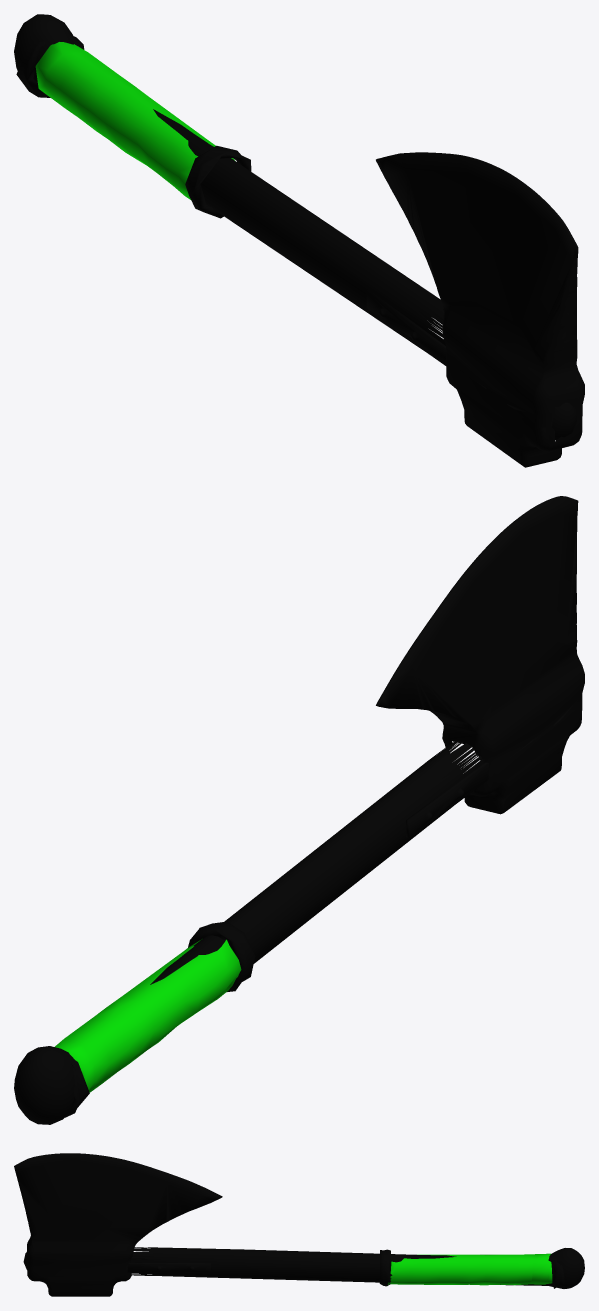
The model's file is axe.glb.
The picture shows the model from 3 angles, top to bottom: view 1: azimuth 30°, elevation 25°; view 2: azimuth 150°, elevation 25°; view 3: azimuth 270°, elevation 25°; orthographic projection. The views are drawn at different scales.
Visible parts, largest first — view 1: axe; view 2: axe; view 3: axe.
Boxes of the visible parts, bbox=[...] form: axe: bbox=[14, 14, 584, 467]; axe: bbox=[14, 496, 584, 1124]; axe: bbox=[14, 1153, 584, 1296].
Bounding box in the file's own units: 0.0511 × 0.2093 × 0.778.
